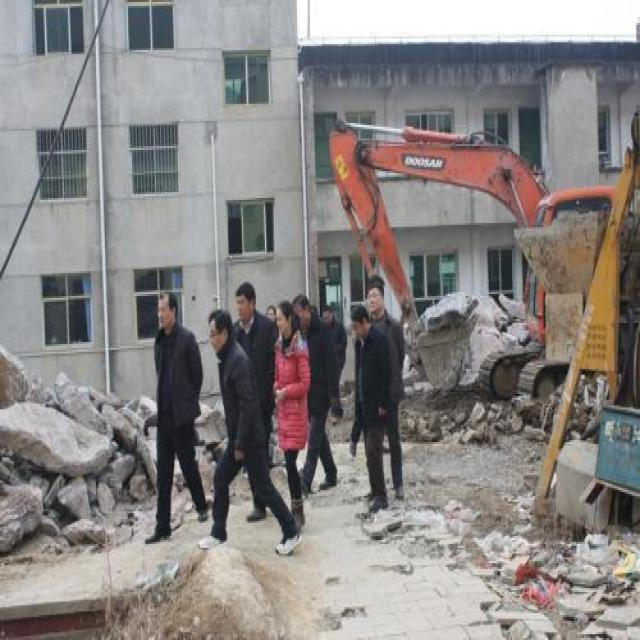no-helmet: (207, 310, 237, 360), (234, 276, 259, 326), (155, 288, 179, 334), (349, 304, 372, 346), (366, 277, 387, 321), (293, 290, 314, 333), (272, 300, 294, 338)
